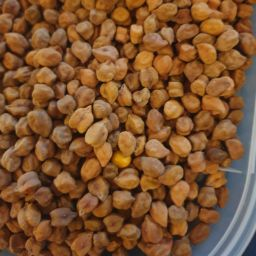Black Chickpeas: (1, 2, 246, 256)
